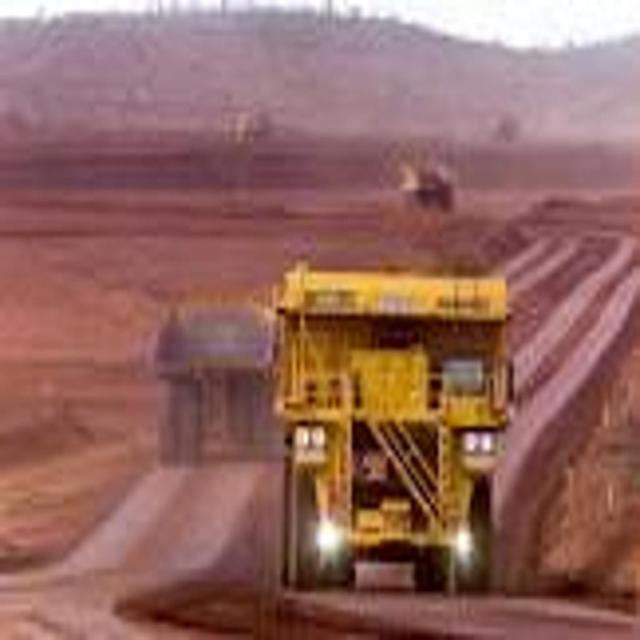dump_truck: (269, 250, 514, 600)
